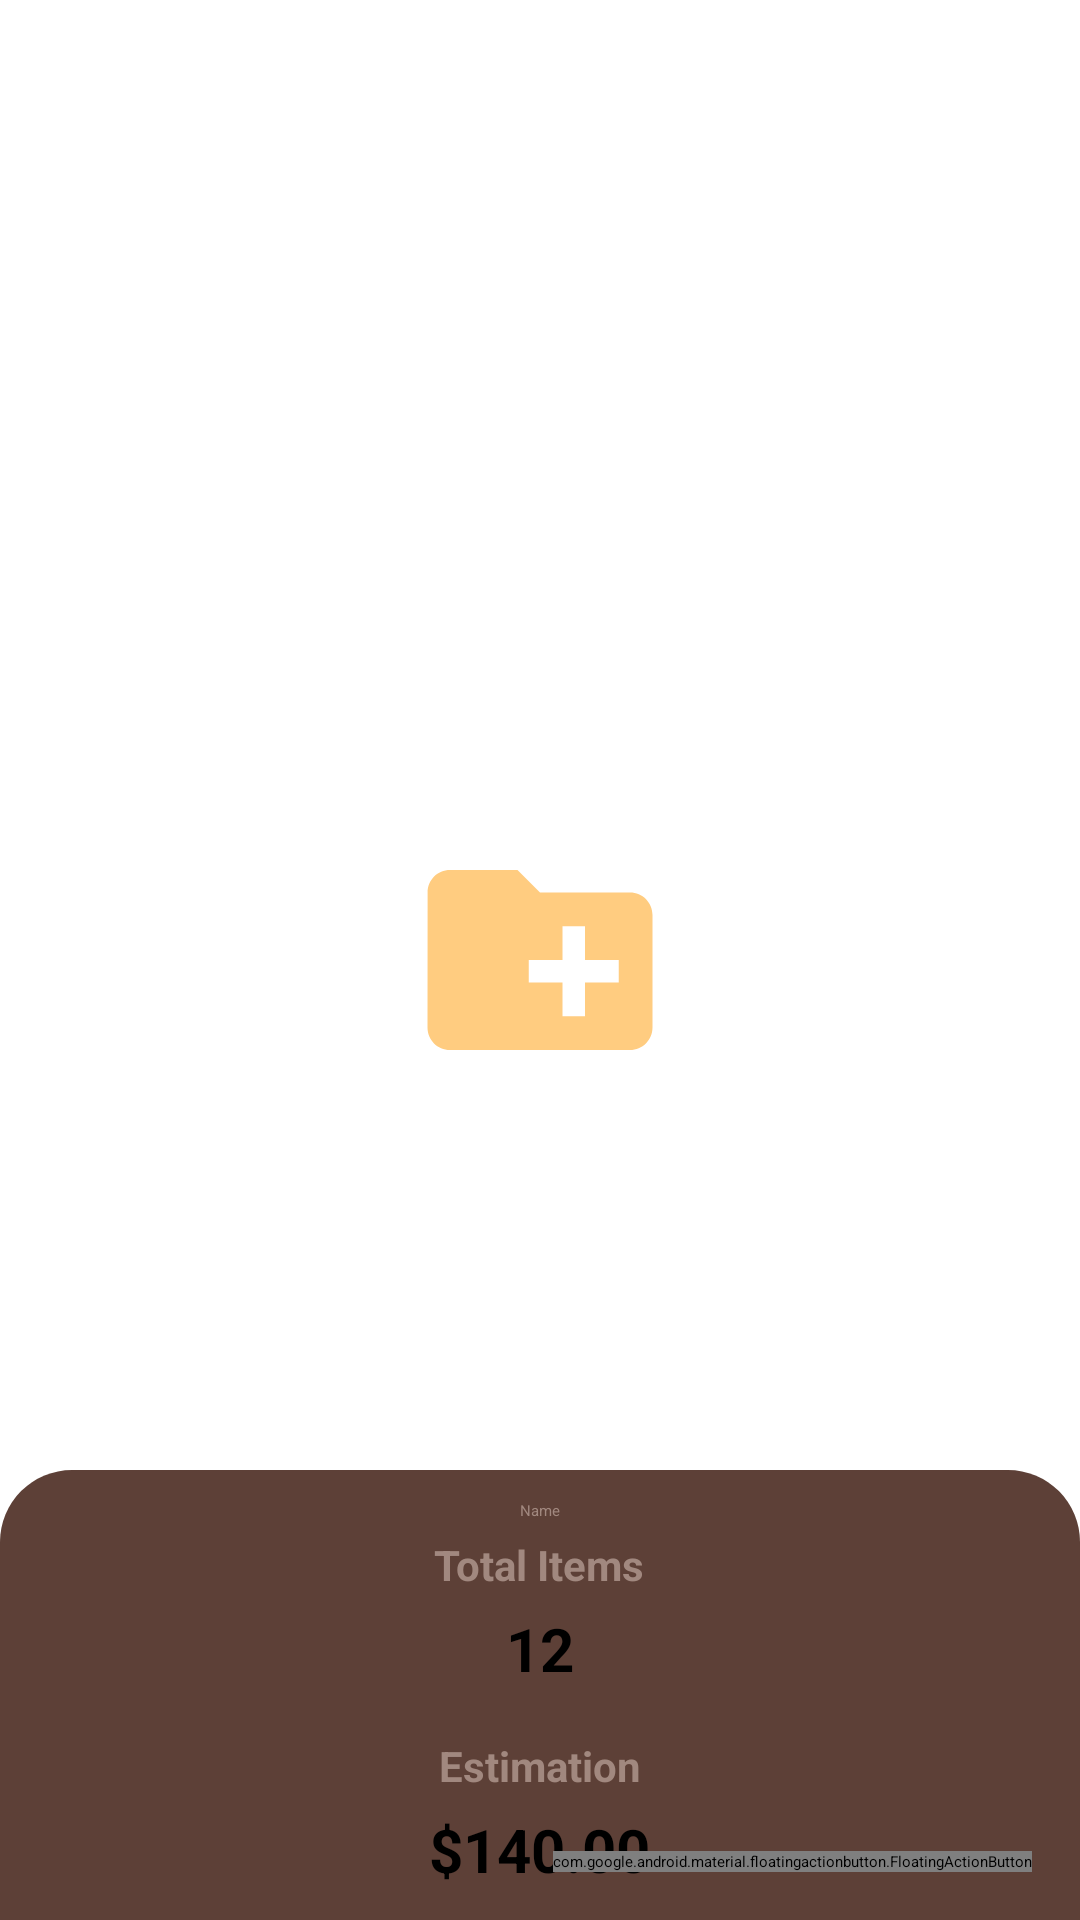

Point at icon controls on the screen. Image size 1080px×1920px, points as (x=x, y=y).
create folder: (x=540, y=960)
